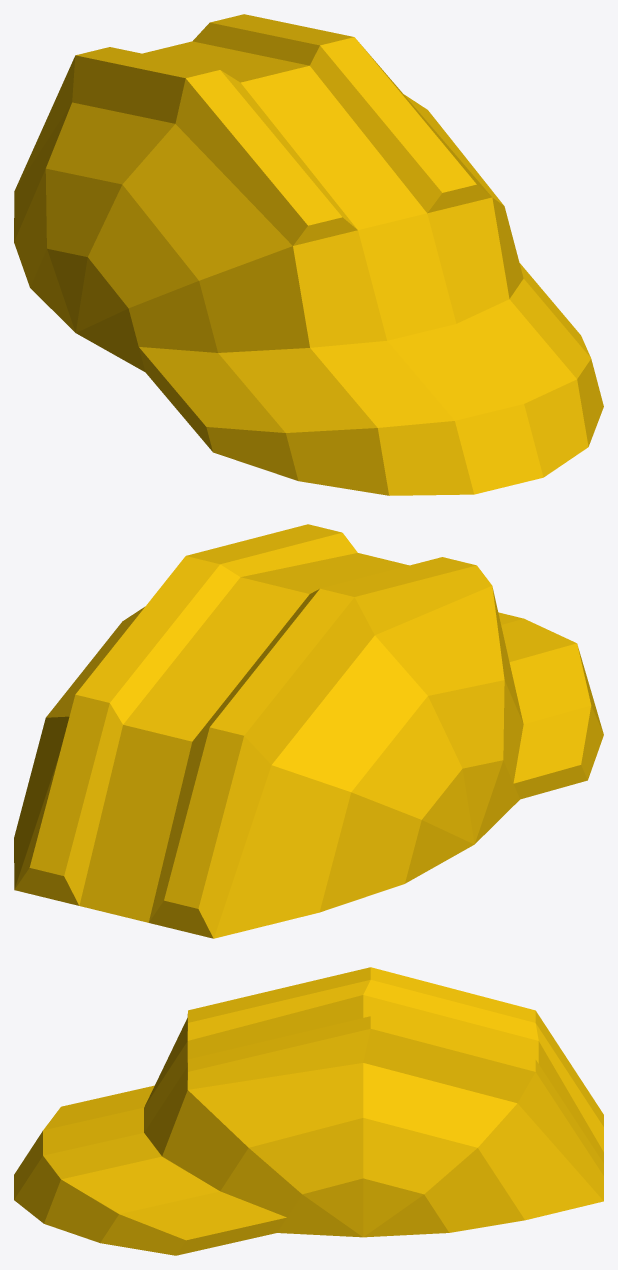
Rendered from hard hat.fbx.
The picture shows the model from 3 angles, top to bottom: view 1: azimuth 30°, elevation 25°; view 2: azimuth 150°, elevation 25°; view 3: azimuth 270°, elevation 25°; orthographic projection. The views are drawn at different scales.
Parts seen in each view (by area): view 1: pSphere1; view 2: pSphere1; view 3: pSphere1.
Part boxes in pixels (left/top/right/bottom): pSphere1: left=14, top=14, right=603, bottom=495; pSphere1: left=14, top=524, right=603, bottom=938; pSphere1: left=14, top=967, right=603, bottom=1255.
Size of the model in its own units: 1.37 by 0.8299 by 2.34.
